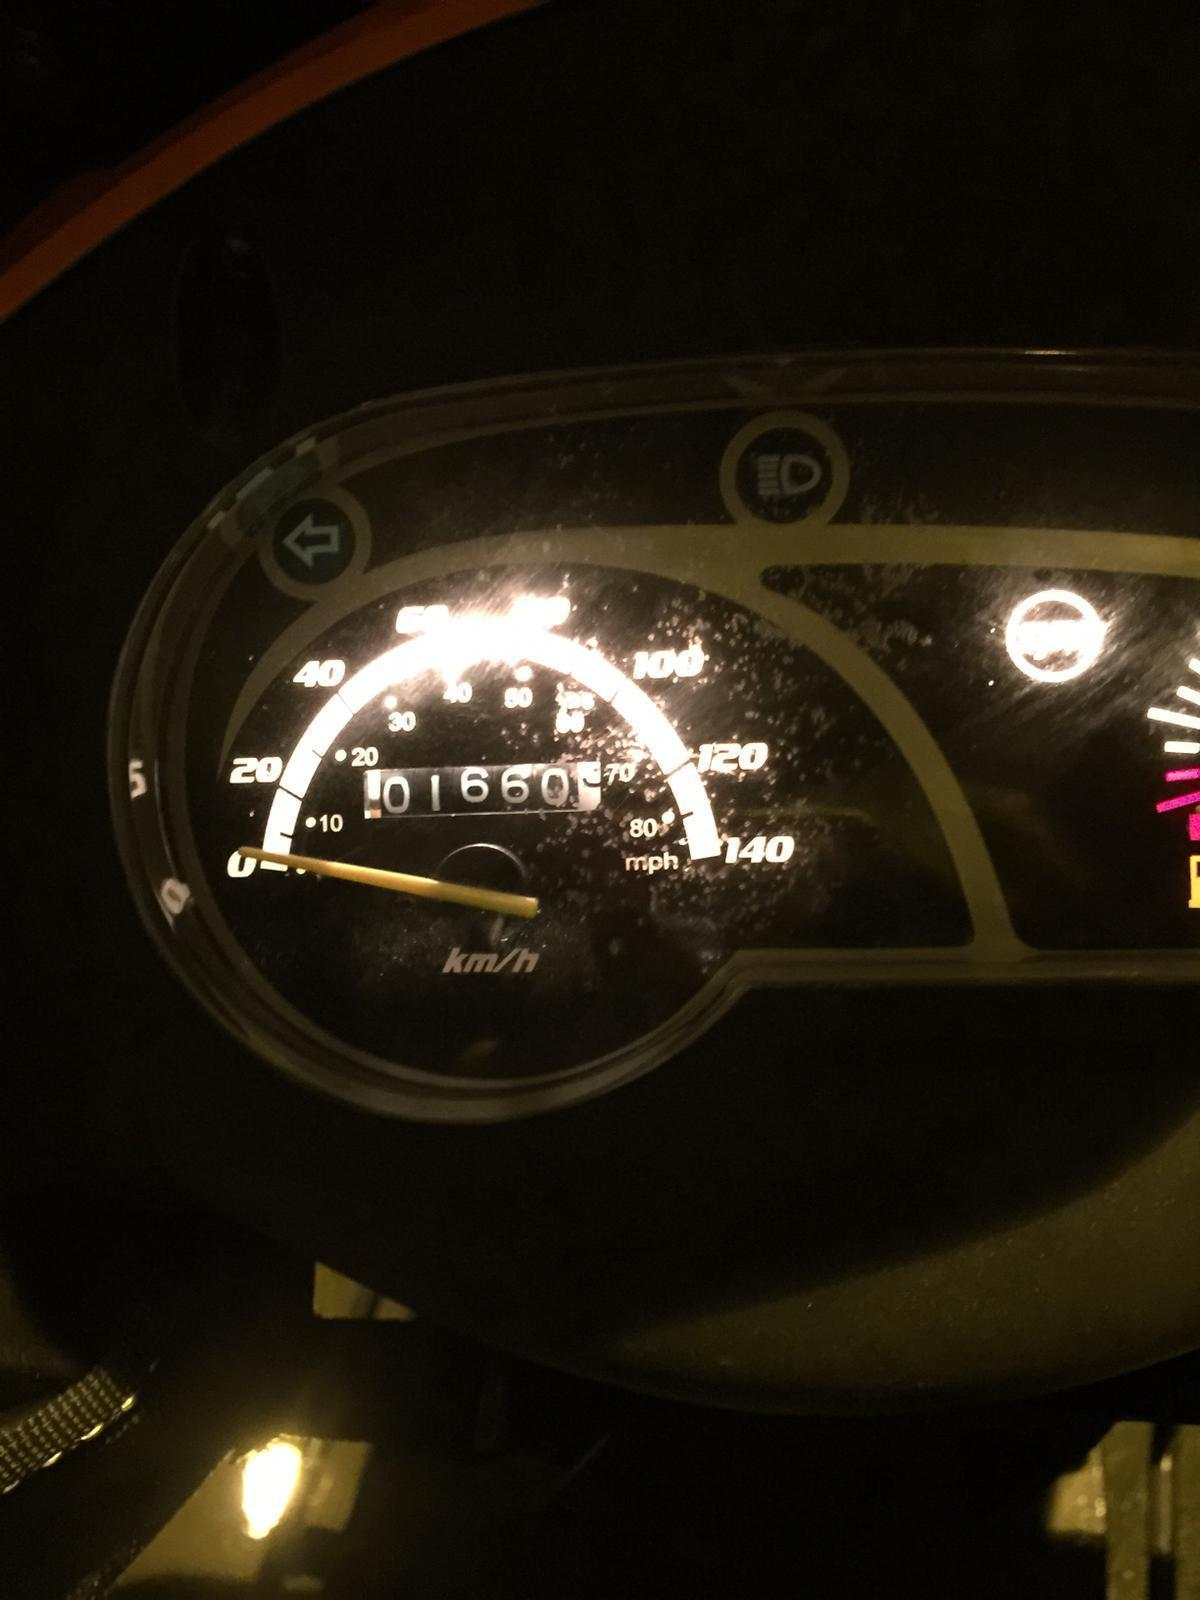0: (539, 763, 571, 809), (381, 771, 412, 813)
1: (425, 769, 447, 815)
3: (577, 761, 604, 797)
6: (458, 763, 492, 809), (498, 766, 534, 806)
odometer: (361, 758, 606, 820)
